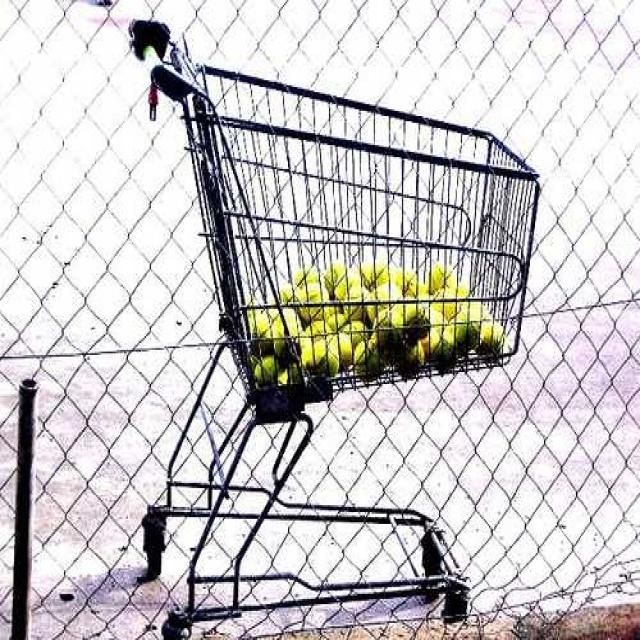Tennis_Ball: (304, 340, 336, 376), (274, 309, 300, 351), (300, 283, 330, 318), (356, 340, 383, 377), (252, 314, 276, 355), (400, 341, 426, 378), (396, 300, 426, 330), (451, 315, 480, 346), (344, 320, 370, 354), (374, 308, 398, 341), (360, 262, 390, 288), (374, 283, 400, 312), (479, 321, 504, 351), (346, 286, 367, 319), (279, 364, 305, 390), (338, 273, 362, 301), (417, 328, 439, 357), (255, 355, 277, 384), (326, 267, 350, 293), (334, 334, 351, 370), (434, 339, 455, 368), (433, 264, 454, 292), (326, 311, 349, 335), (438, 292, 459, 318), (299, 270, 322, 292), (397, 270, 416, 296), (306, 320, 330, 339), (281, 288, 301, 308)
